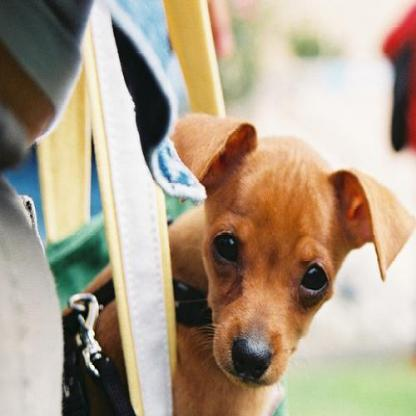miniature_pinscher: (59, 105, 413, 413)
